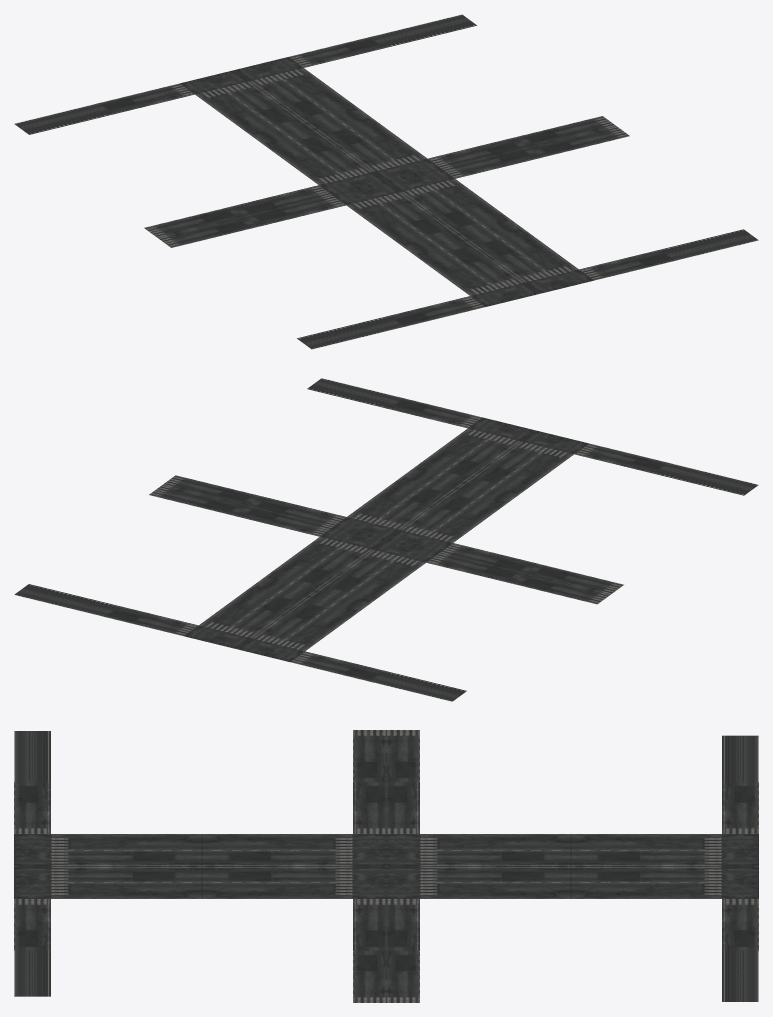
File: Calle.fbx
3 views of the same model, one above another, from view 1: azimuth 30°, elevation 25°; view 2: azimuth 150°, elevation 25°; view 3: azimuth 270°, elevation 25° (orthographic). The views are drawn at different scales.
Visible parts, largest first — view 1: Calle; view 2: Calle; view 3: Calle.
Boxes of the visible parts, <box> form: Calle: <box>14,14,758,349</box>; Calle: <box>14,378,758,701</box>; Calle: <box>14,730,758,1002</box>.
Size of the model in its own units: 6745 by 0.00323 by 7784.
Materials: 1 (1 with a texture image).
